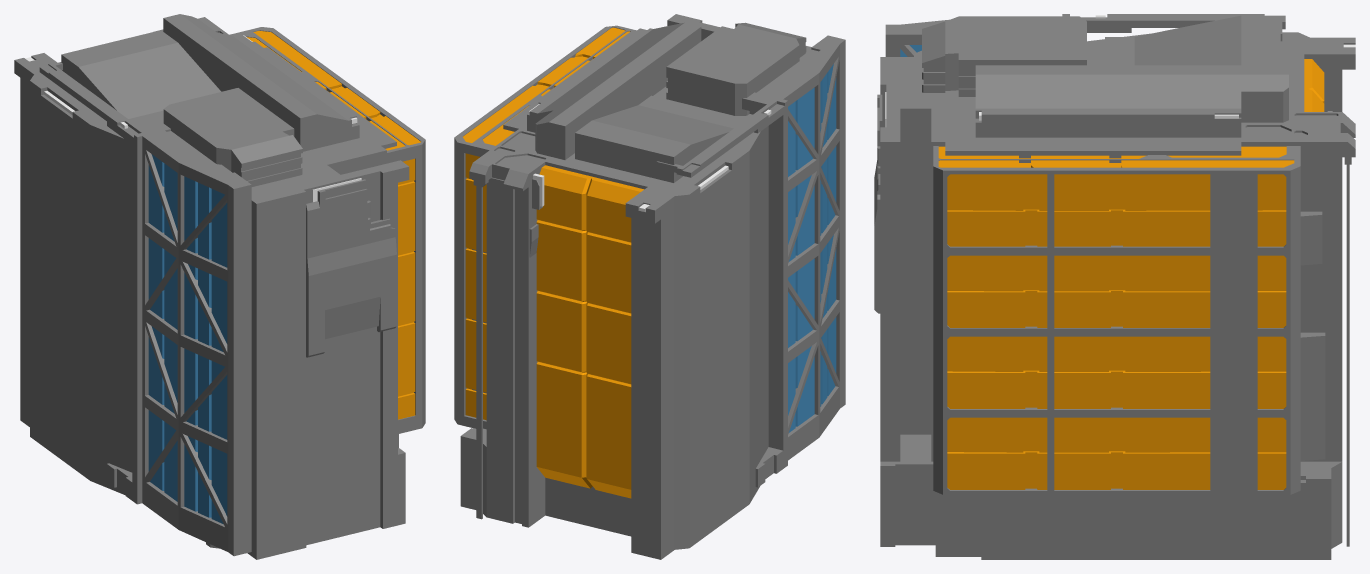
File: Building_E.fbx
3 views of the same model, side by side, from view 1: azimuth 30°, elevation 25°; view 2: azimuth 150°, elevation 25°; view 3: azimuth 270°, elevation 25° (orthographic). The views are drawn at different scales.
Parts seen in each view (by area): view 1: Building_E_Base, Building_E_Frame_Back, Glass_Blue, Building_E_SidePannel, Glass_Orange, Building_E_Frame_Front; view 2: Building_E_Base, Glass_Orange, Building_E_Frame_Back, Glass_Blue, Building_E_Frame_Front, Emissive_Red; view 3: Building_E_Base, Glass_Orange, Building_E_Frame_Front, Building_E_Frame_Back, Building_E_SidePannel.
Part boxes in pixels (x1,y1,x2,y2): Building_E_Base: (14,14,409,559); Building_E_Frame_Back: (39,62,251,556); Glass_Blue: (148,154,227,524); Building_E_SidePannel: (306,179,396,357); Glass_Orange: (246,30,420,419); Building_E_Frame_Front: (229,27,425,433); Building_E_Base: (460,14,811,559); Glass_Orange: (463,27,643,498); Building_E_Frame_Back: (656,35,845,487); Glass_Blue: (788,64,836,432); Building_E_Frame_Front: (454,25,636,429); Emissive_Red: (533,109,771,211); Building_E_Base: (880,15,1355,559); Glass_Orange: (938,59,1324,489); Building_E_Frame_Front: (933,146,1300,494); Building_E_Frame_Back: (885,14,1285,56); Building_E_SidePannel: (874,94,882,313).
Bounding box in the file's own units: 8964 × 13921 × 13620.
